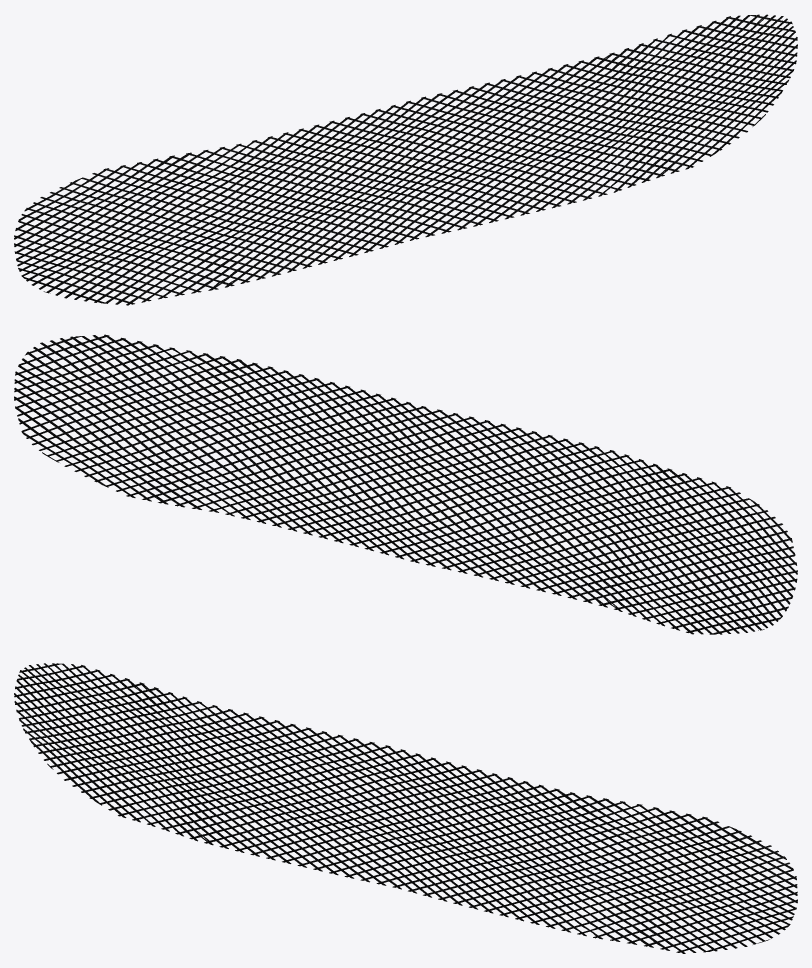
File: ZG01_zunsport_grille_black.glb
3 views of the same model, one above another, from view 1: azimuth 30°, elevation 25°; view 2: azimuth 150°, elevation 25°; view 3: azimuth 330°, elevation 25° (orthographic).
Parts seen in each view (by area): view 1: MOD_NC_ZG01_mouth; view 2: MOD_NC_ZG01_mouth; view 3: MOD_NC_ZG01_mouth.
Part boxes in pixels (x1,y1,x2,y2): MOD_NC_ZG01_mouth: (14, 14, 797, 305); MOD_NC_ZG01_mouth: (14, 334, 797, 634); MOD_NC_ZG01_mouth: (14, 663, 797, 953).
Bounding box in the file's own units: 0.705 × 0.128 × 0.0382.
1 material, 1 textured.
